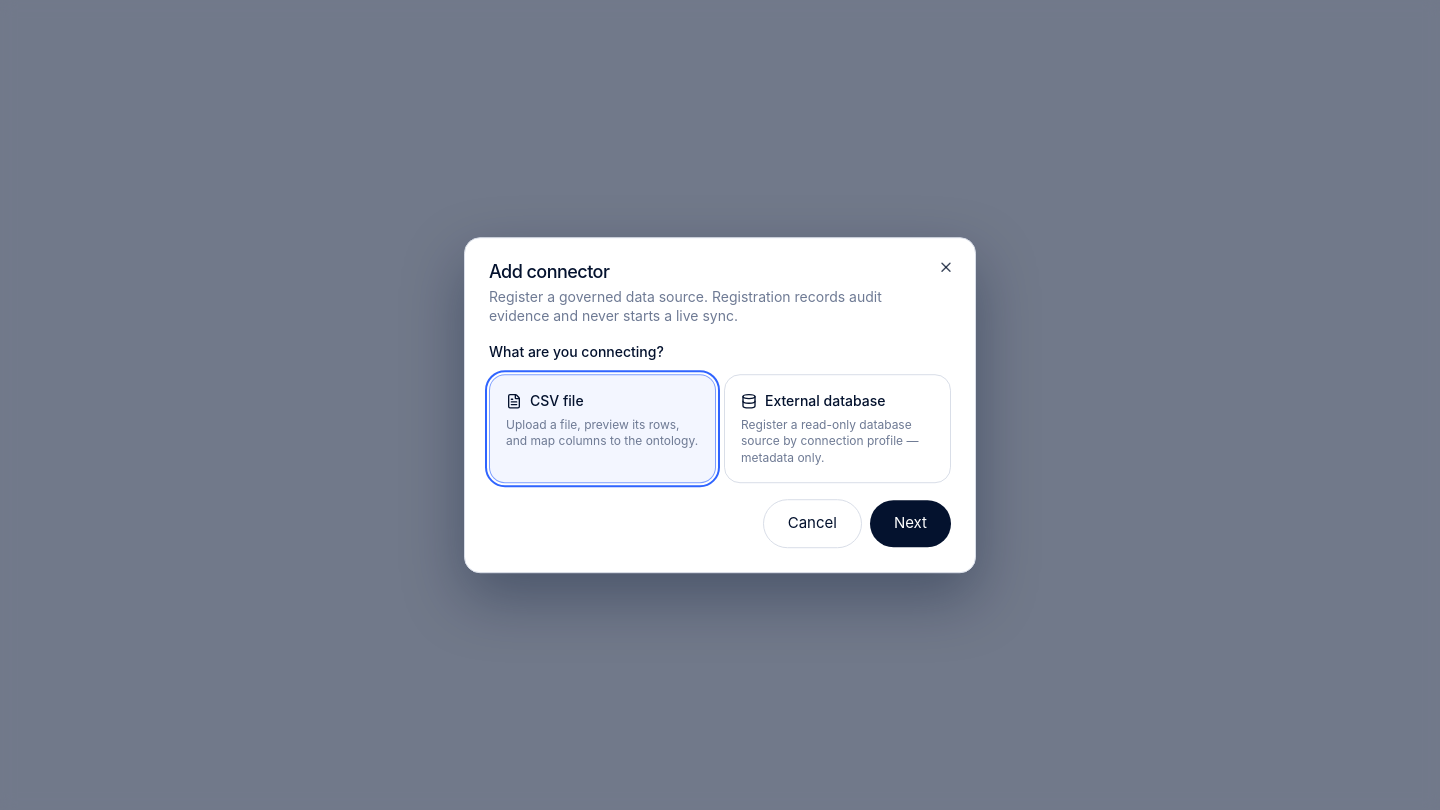
Test: AddConnectorWizard external DB flow › posts the profile form to the external-db preview endpoint
The width and height of the screenshot is (1440, 810).
Click the button "External database" at (838,429), box [724,374,951,483]
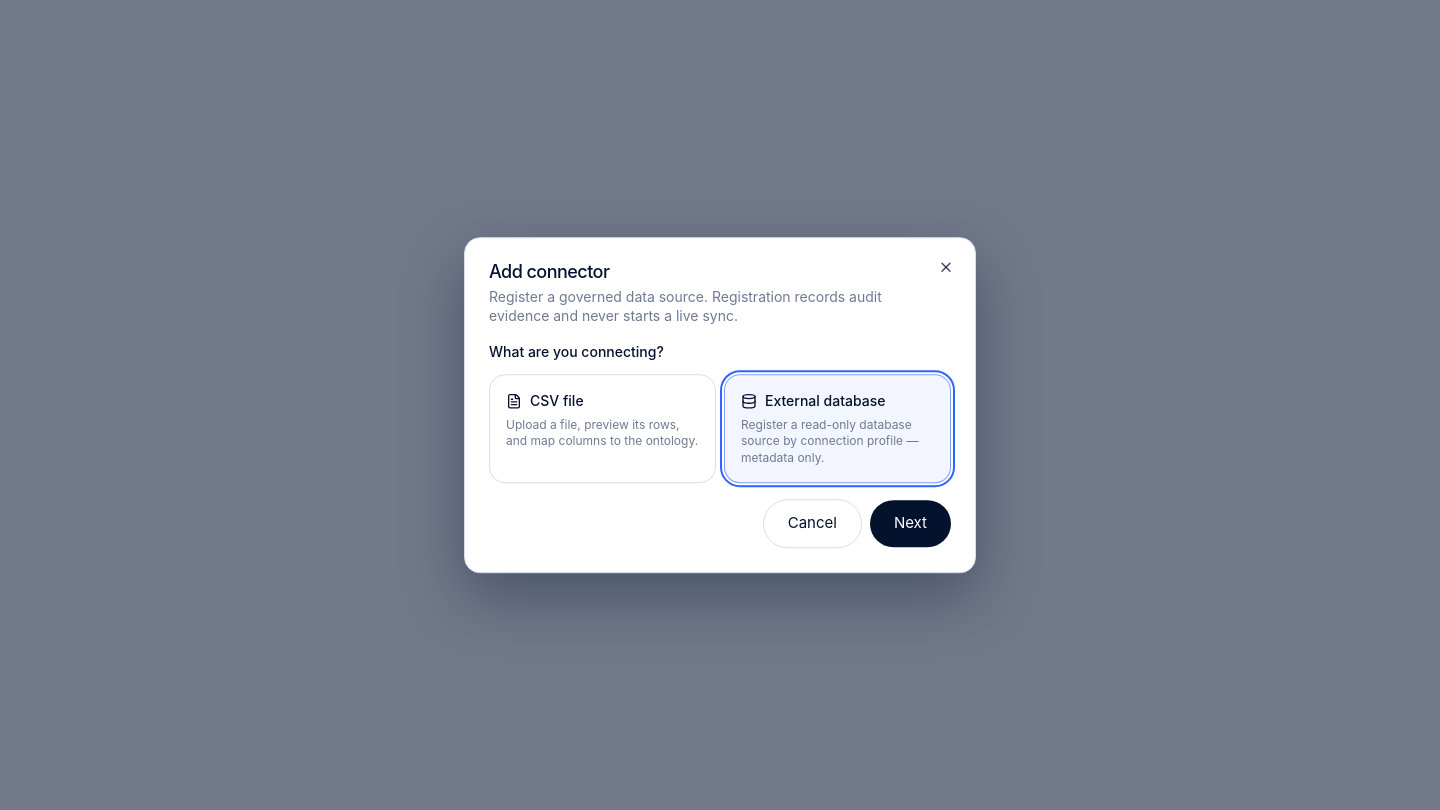
Click the button "Next" at (910,524), box [870,500,951,547]
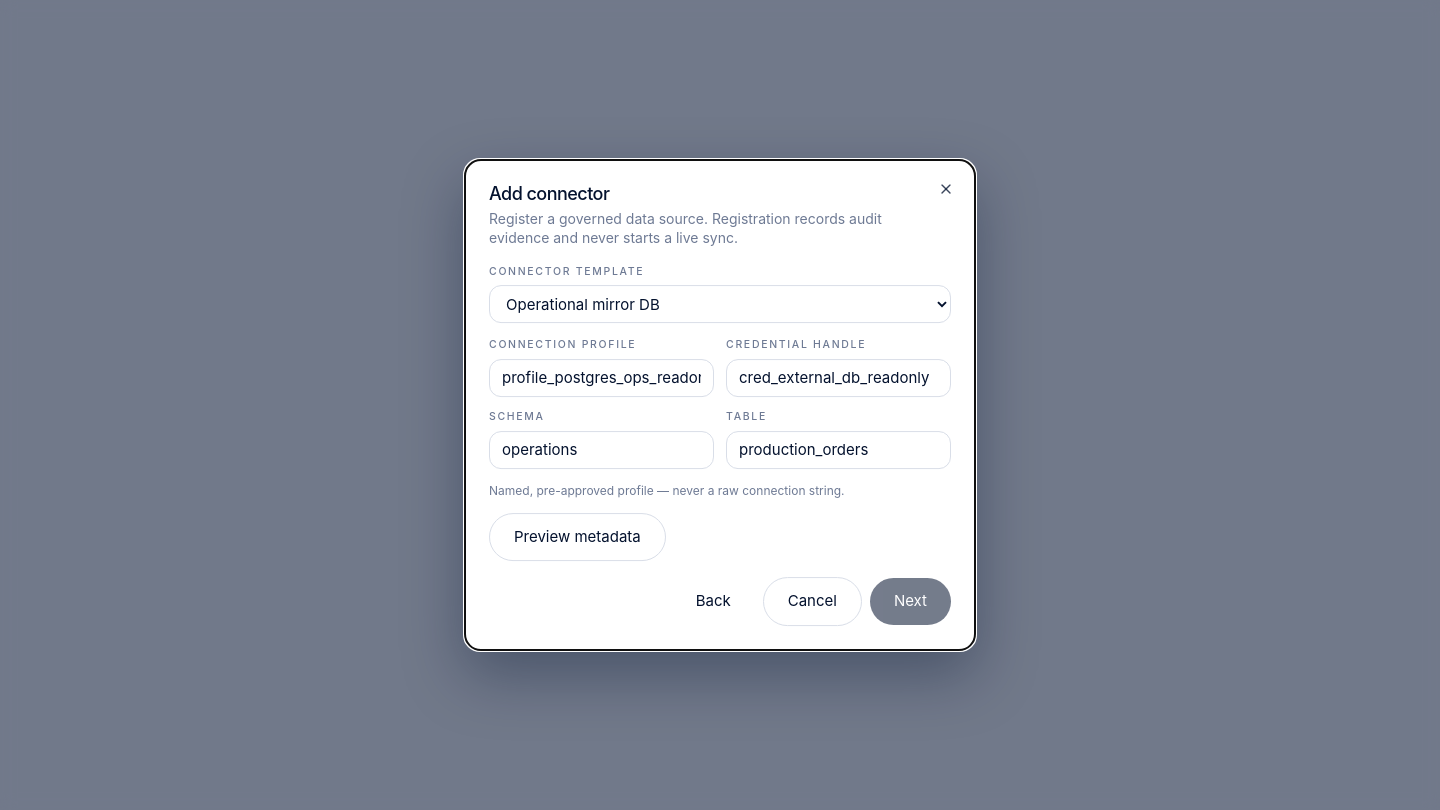
Click the button "Preview metadata" at (577,537), box [489,513,666,561]
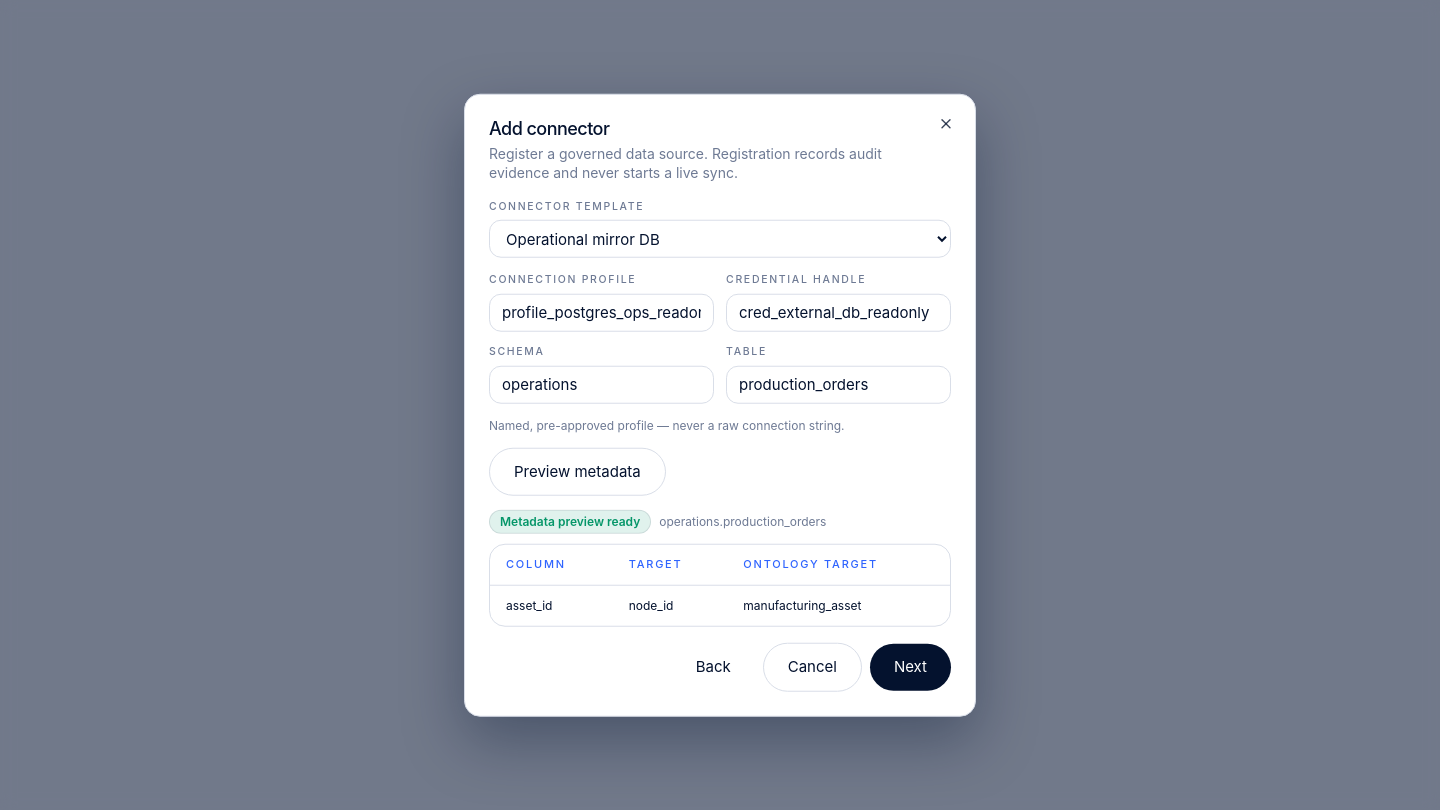
Expected: the text "Metadata preview ready" is shown, [489,510,651,534]
Click the button "Next" at (910,667), box [870,644,951,690]
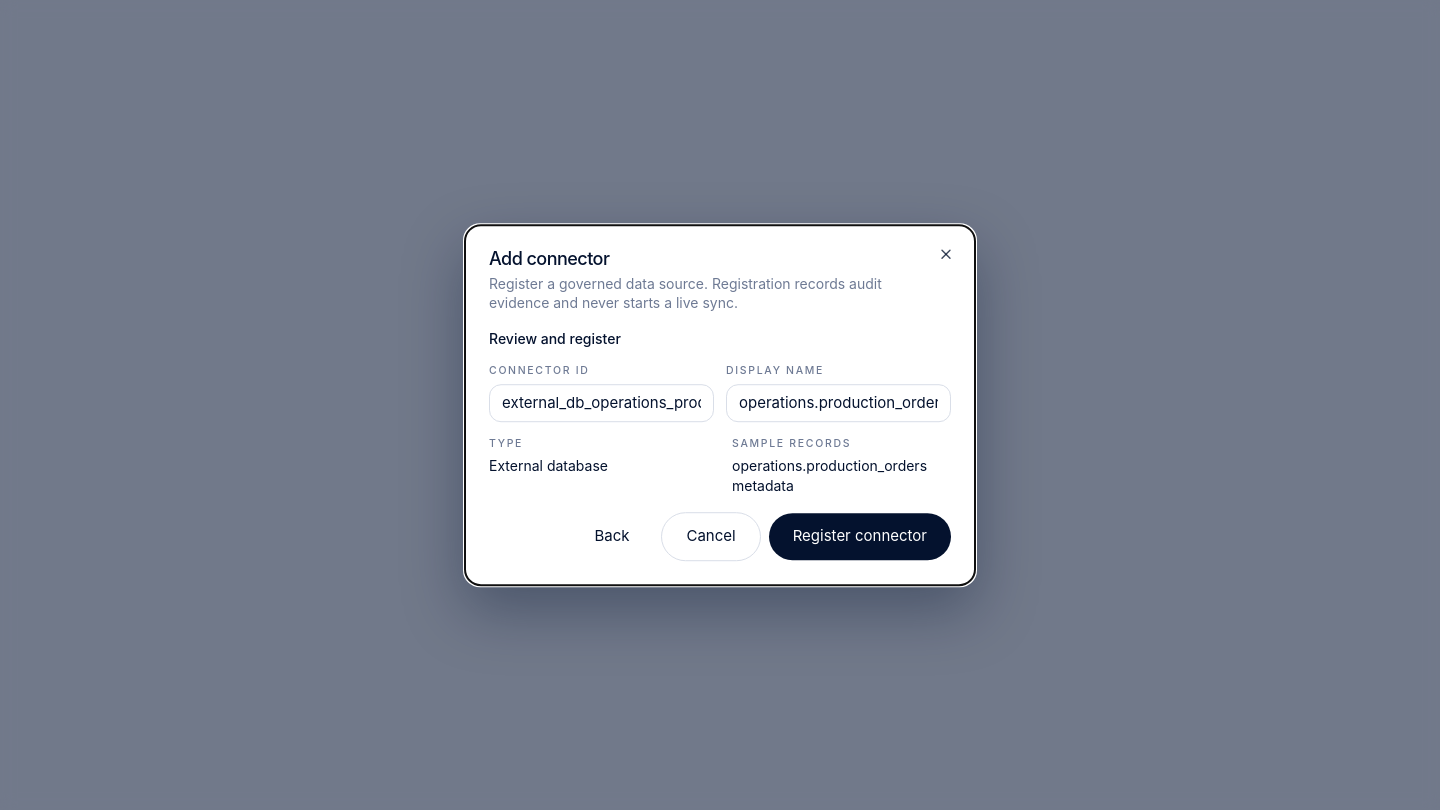
Expected: the field labelled "Connector id" holds "external_db_operations_production_orders", [489,384,714,422]
